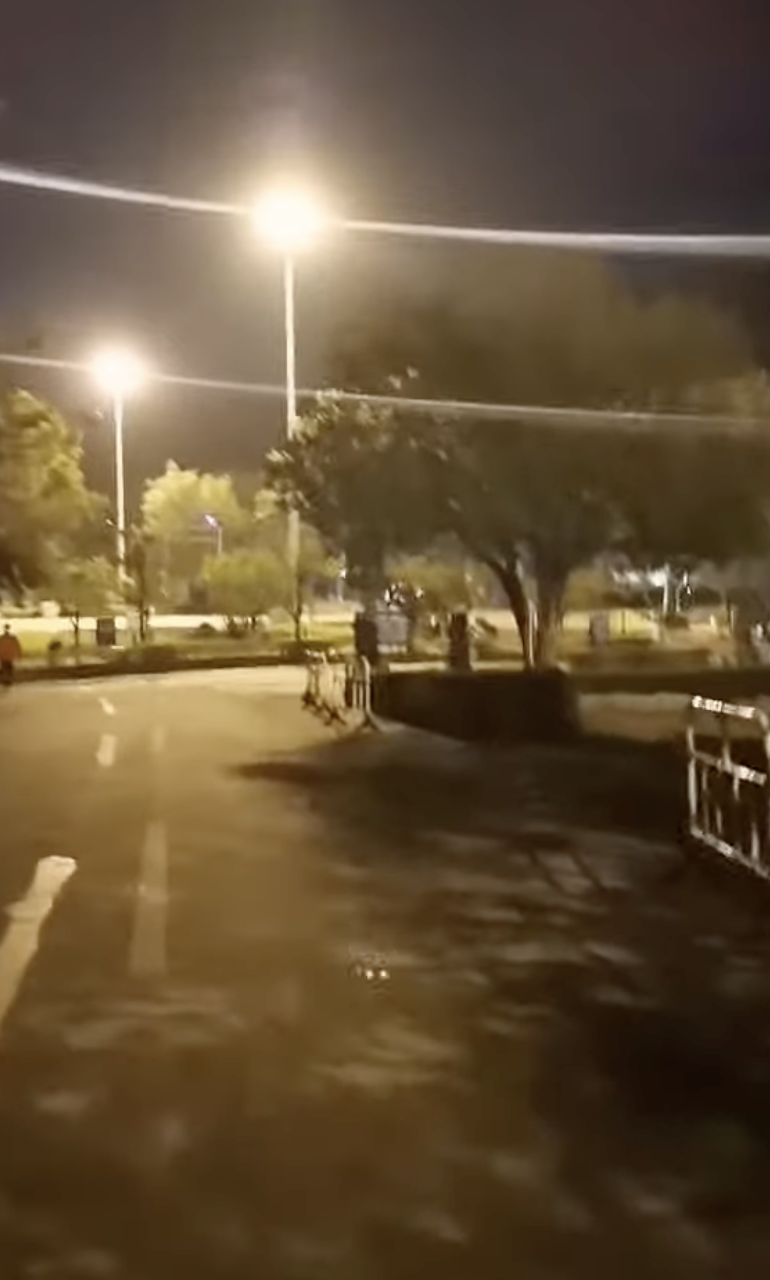LED: (234, 188, 344, 269), (67, 331, 159, 417)
